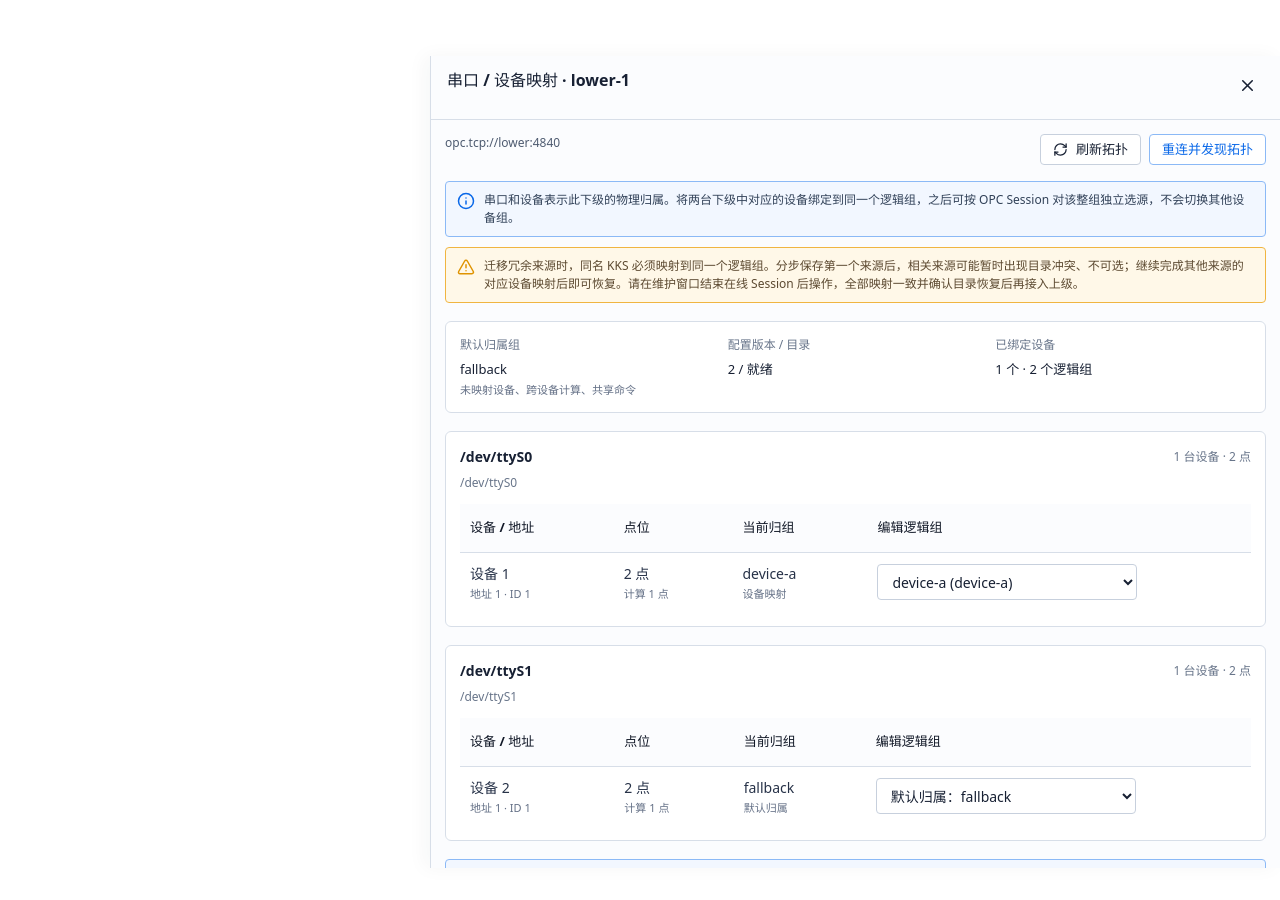
Scenario: SourceTopologyDrawer › does not disconnect online sessions and blocks mapping saves while they exist
This screenshot has width=1280, height=900.
Select "device-b (device-b)" in the dropdown named "/dev/ttyS1 设备 1 逻辑组". click: point(1006, 796)
box: 876,778 -> 1136,814
(page scrolled)
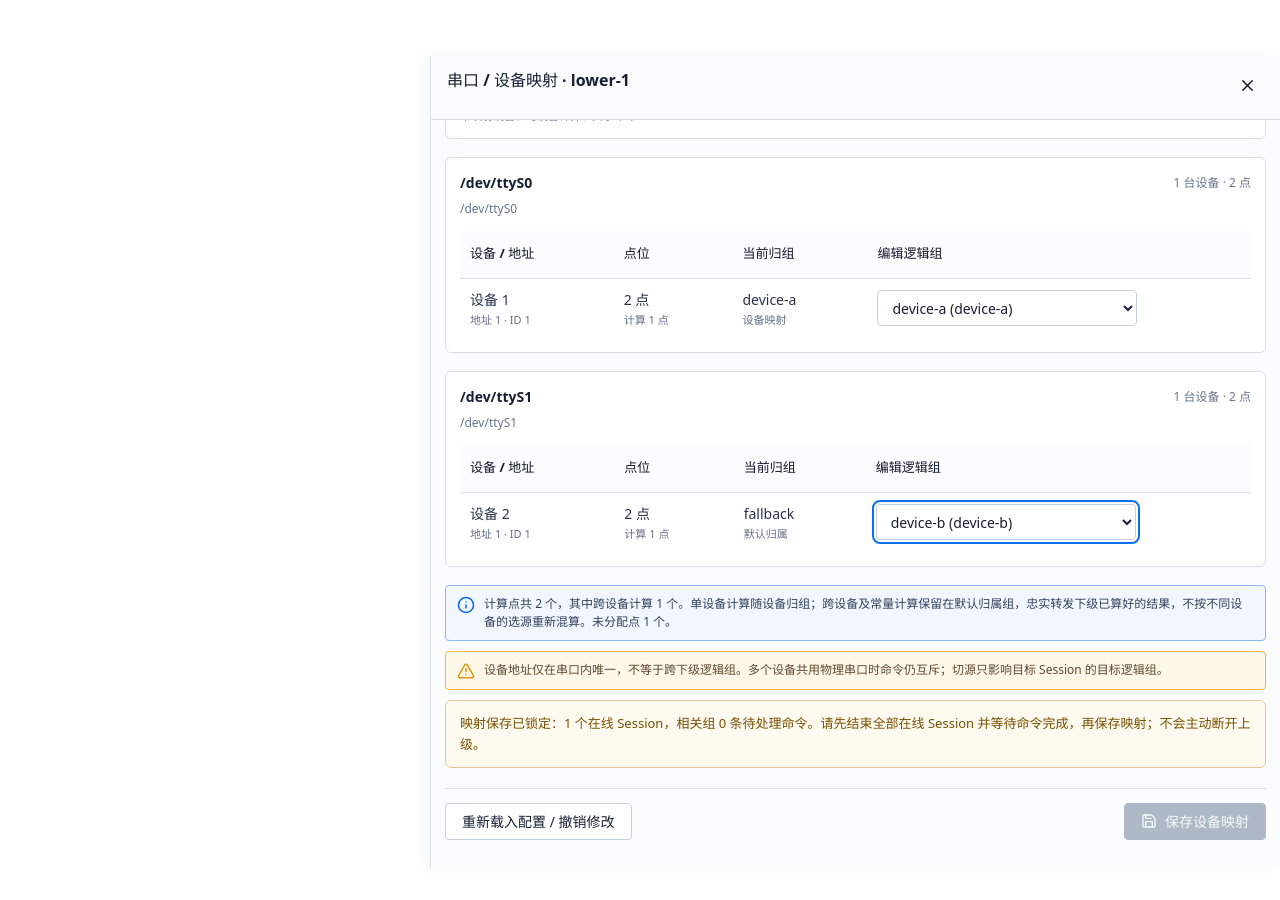
Expected: the button "保存设备映射" is disabled, 1124,803 -> 1266,840
Expected: the text "映射保存已锁定：1 个在线 Session，相关组 0 条待处理命令。请先结束全部在线 Session 并等待命令完成，再保存映射；不会主动断开上级。" is shown, 445,700 -> 1266,768
